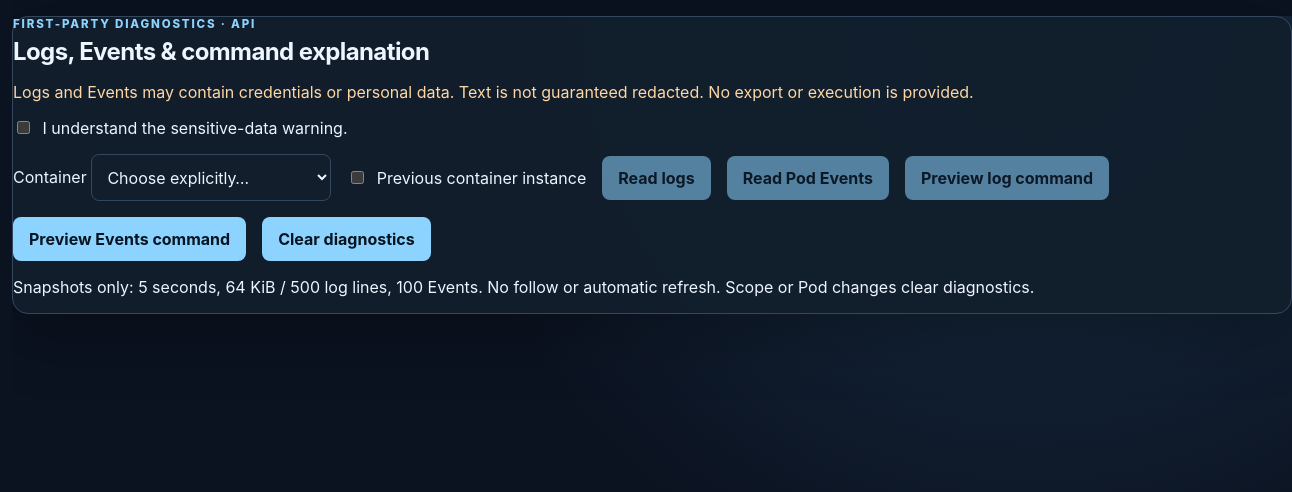
Scenario: Pod diagnostics › requires warning acknowledgement and explicit container before reading logs
Expected: the button "Read logs" is disabled, [602,156,711,200]
Expected: the button "Read Pod Events" is disabled, [727,156,889,200]
Click the checkbox labelled "I understand the sensitive-data warning." at (24, 128), box [17,121,30,134]
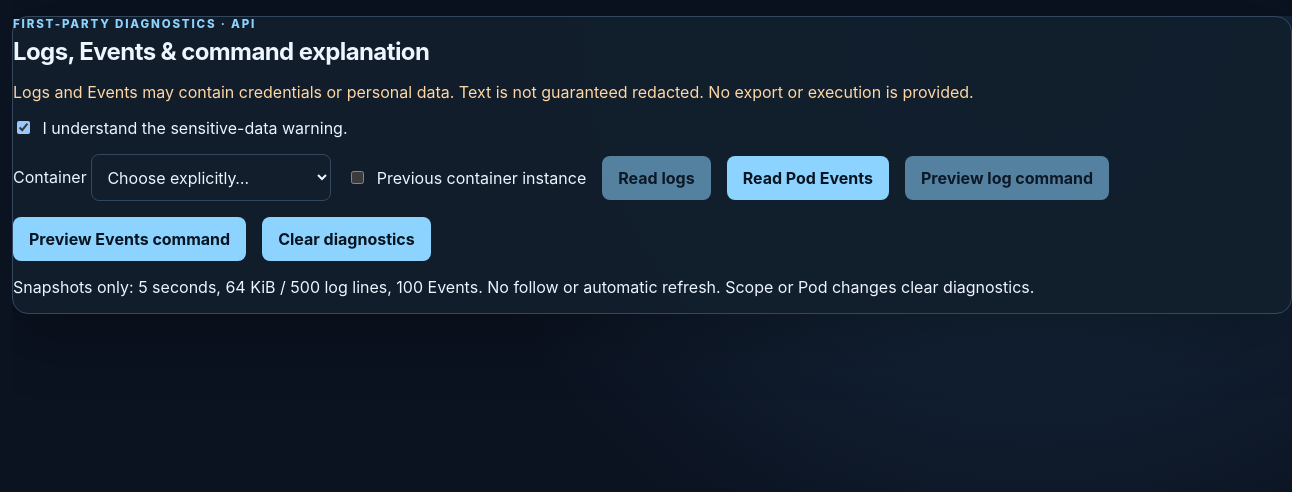
Select "api" in the dropdown labelled "Container" at (211, 178), box [91,154,331,201]
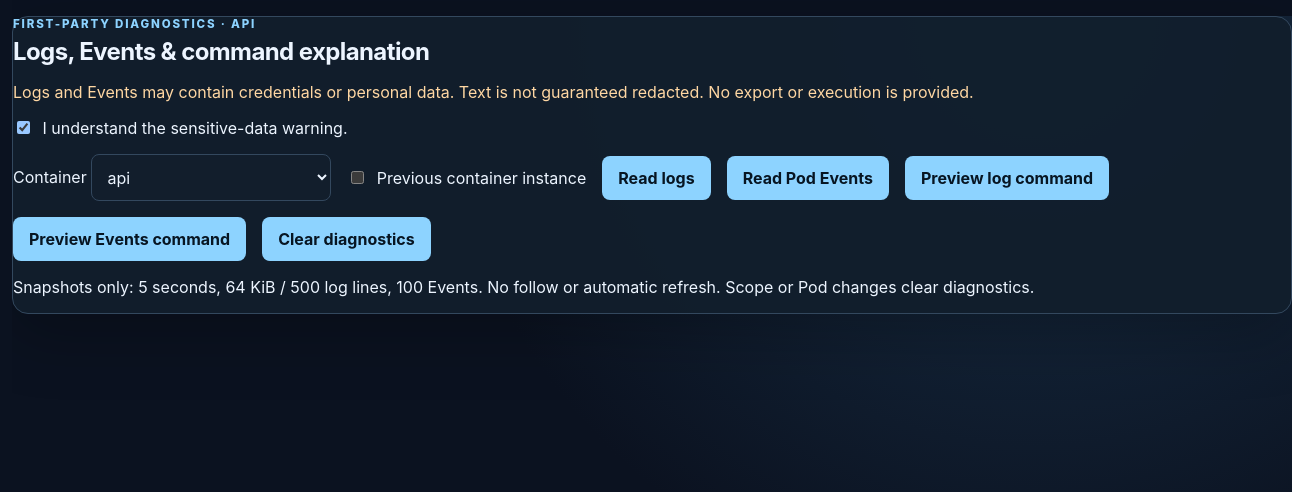
Expected: the button "Read logs" is enabled, [602,156,711,200]
